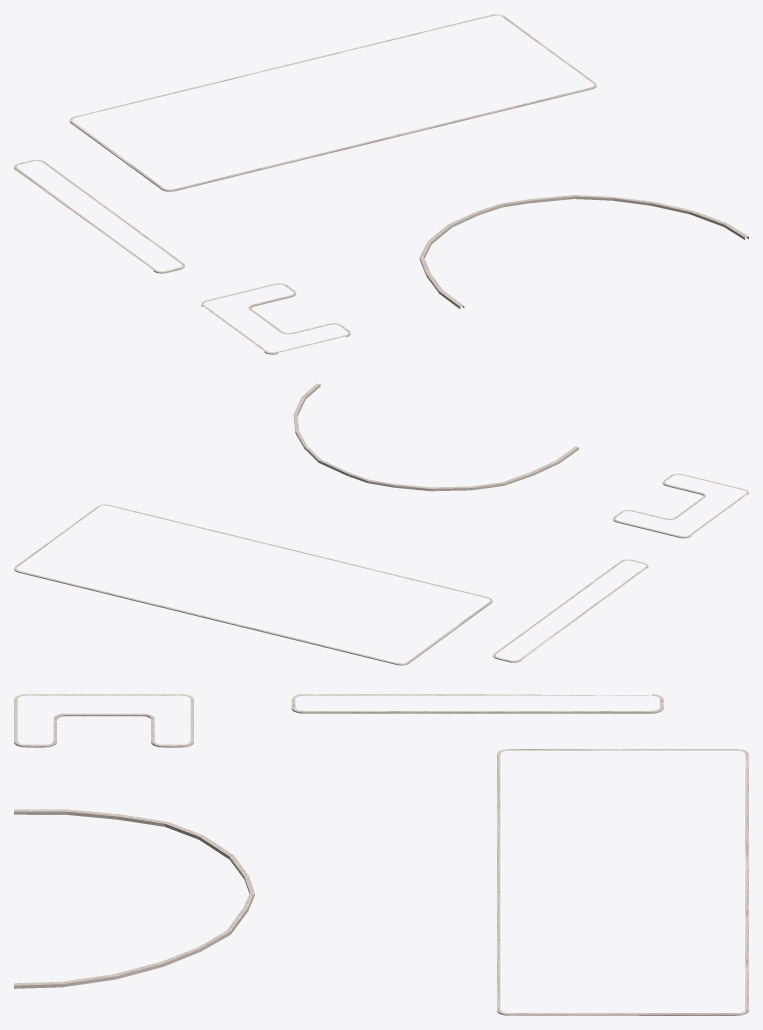
The model's file is vgschrchgrnd03_lvs.obj.
3 renders of one model, top to bottom at view 1: azimuth 30°, elevation 25°; view 2: azimuth 150°, elevation 25°; view 3: azimuth 270°, elevation 25°, orthographic. The views are drawn at different scales.
Parts seen in each view (by area): view 1: vgschrchgrnd03_lvs; view 2: vgschrchgrnd03_lvs; view 3: vgschrchgrnd03_lvs.
Part boxes in pixels (<box>): vgschrchgrnd03_lvs: <box>14,14,748,354</box>; vgschrchgrnd03_lvs: <box>14,383,748,665</box>; vgschrchgrnd03_lvs: <box>14,694,748,1015</box>.
Bounding box in the file's own units: 109 × 0.5002 × 106.
1 material, 1 textured.
